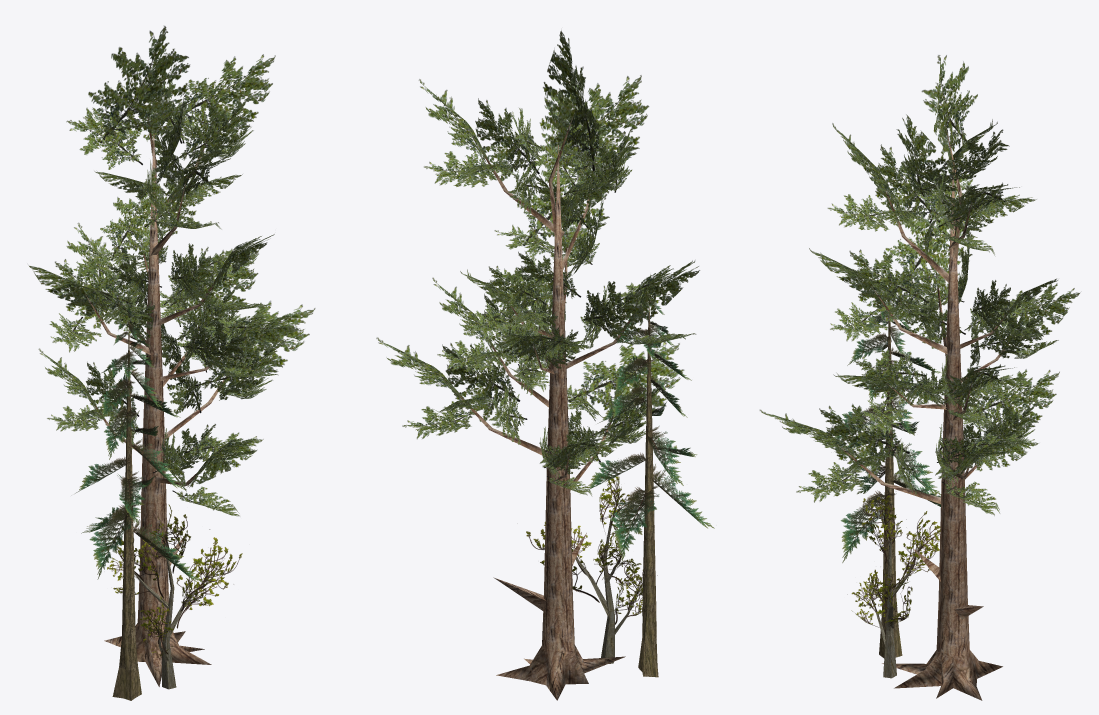
Rendered from Tree2.glb.
The picture shows the model from 3 angles, left to right: view 1: azimuth 30°, elevation 25°; view 2: azimuth 150°, elevation 25°; view 3: azimuth 270°, elevation 25°; orthographic projection. The views are drawn at different scales.
Visible parts, largest first — view 1: Tree_1, Tree_3, Tree_2; view 2: Tree_1, Tree_3, Tree_2; view 3: Tree_1, Tree_3, Tree_2.
Part boxes in pixels (bbox=[...]): Tree_1: bbox=[28, 25, 315, 686]; Tree_3: bbox=[75, 306, 203, 700]; Tree_2: bbox=[107, 504, 242, 689]; Tree_1: bbox=[376, 30, 699, 700]; Tree_3: bbox=[587, 274, 714, 677]; Tree_2: bbox=[517, 469, 657, 663]; Tree_1: bbox=[759, 55, 1080, 700]; Tree_3: bbox=[835, 270, 942, 658]; Tree_2: bbox=[851, 495, 940, 678].
Bounding box in the file's own units: 7.65 × 15.39 × 7.13.
Materials: 6 (6 with a texture image).
